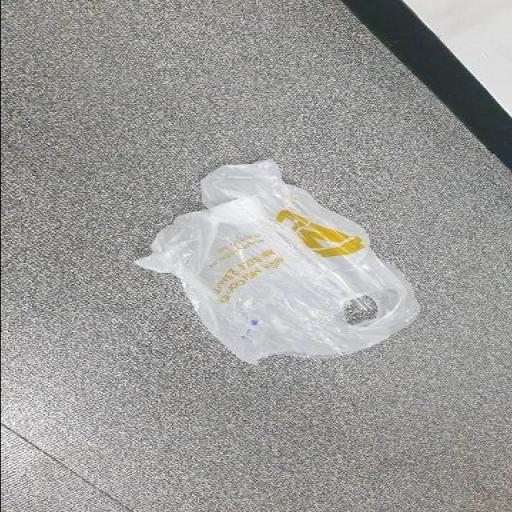plastic-bag: (130, 155, 424, 360)
